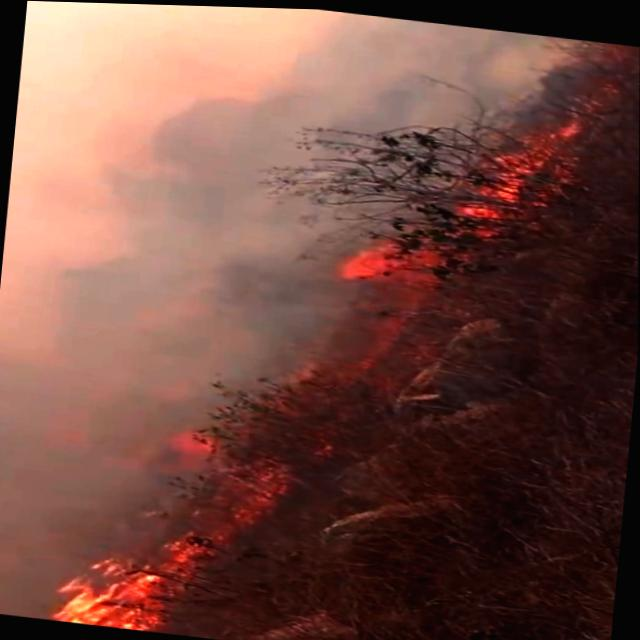fire: (0, 526, 235, 639)
smoke: (0, 0, 154, 443)
